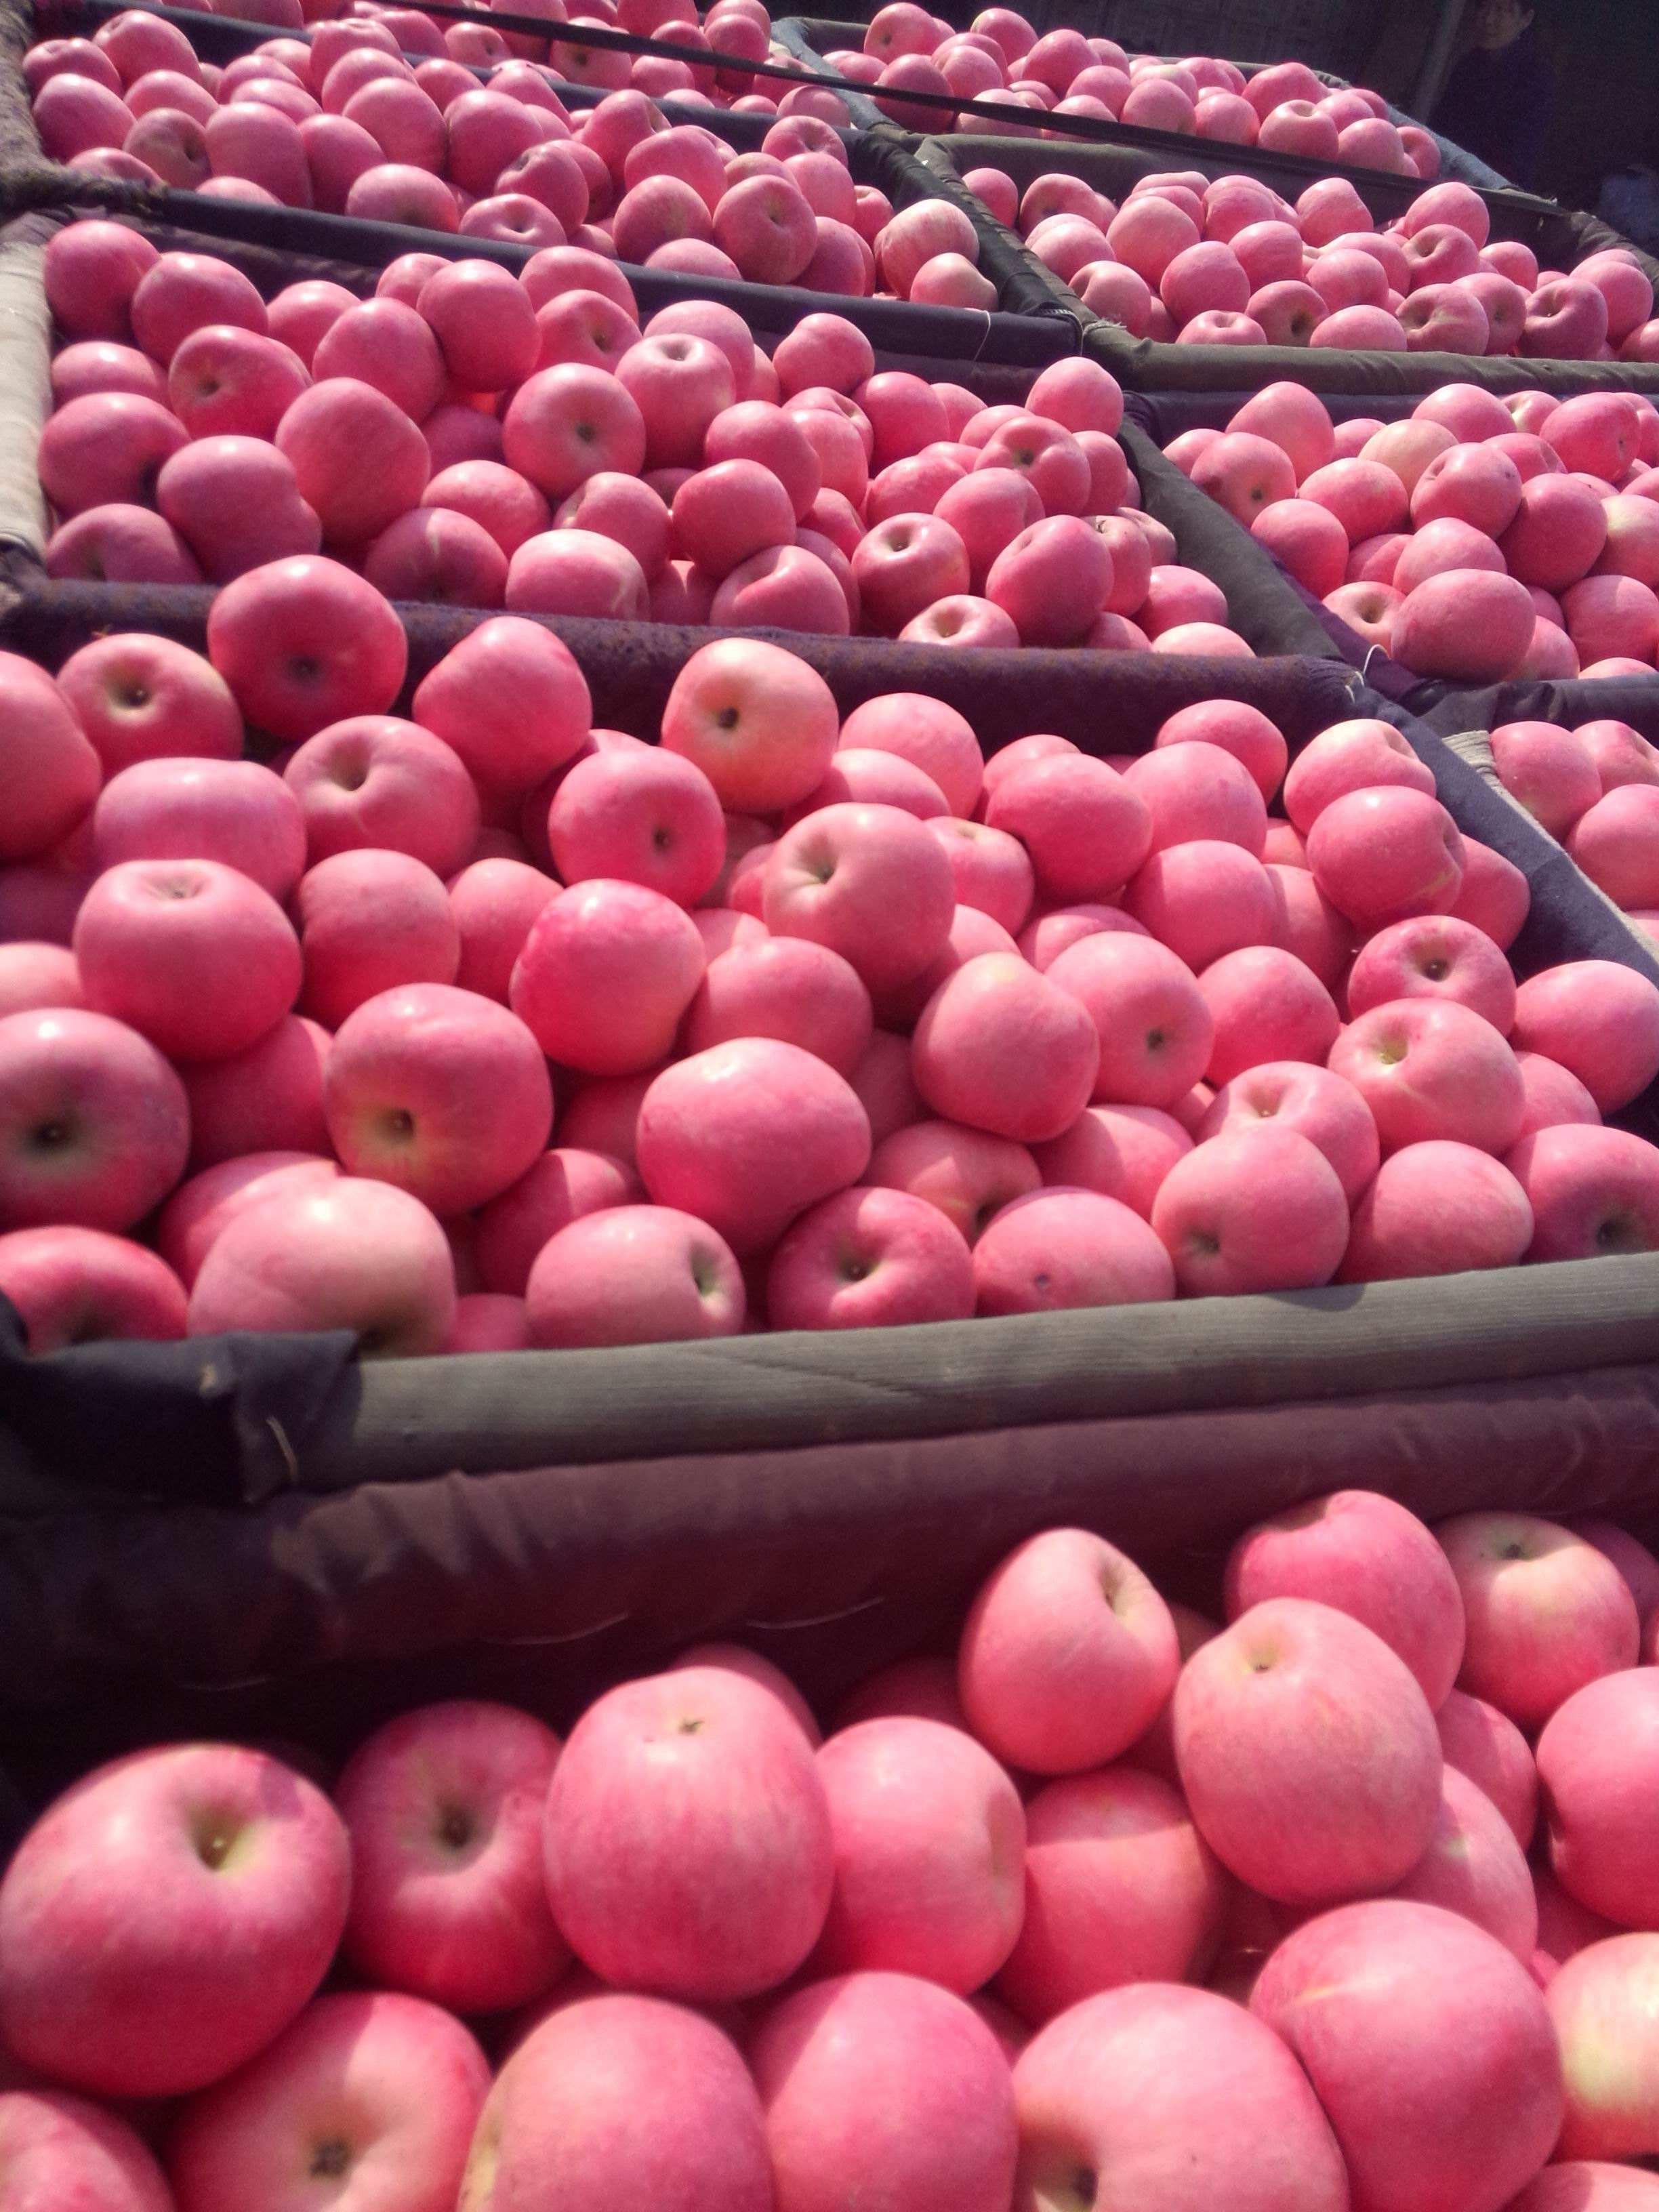apple: (3, 1738, 352, 2101), (535, 1662, 833, 2010), (1256, 1900, 1561, 2205), (1175, 1601, 1443, 1902), (335, 1698, 577, 2012), (181, 1998, 500, 2212), (749, 1963, 1019, 2207), (469, 1994, 763, 2212), (812, 1710, 1033, 1987), (960, 1527, 1175, 1773), (321, 982, 556, 1205), (183, 1172, 467, 1345), (1434, 1510, 1649, 1738), (77, 850, 308, 1057), (638, 1042, 871, 1240), (0, 1010, 192, 1233), (502, 871, 704, 1076), (911, 953, 1105, 1143), (1150, 1115, 1351, 1296), (211, 557, 408, 733), (756, 1184, 976, 1336), (1330, 988, 1528, 1150), (525, 1205, 749, 1345), (662, 637, 843, 810), (408, 622, 589, 794), (772, 794, 951, 967), (1044, 935, 1213, 1113), (979, 749, 1148, 895), (1304, 784, 1471, 930)
